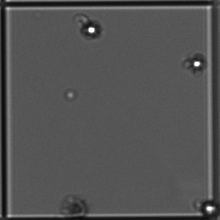Dead Cell: (53, 191, 89, 217)
Living Cell: (182, 52, 207, 75), (79, 19, 105, 40), (198, 199, 217, 216)
